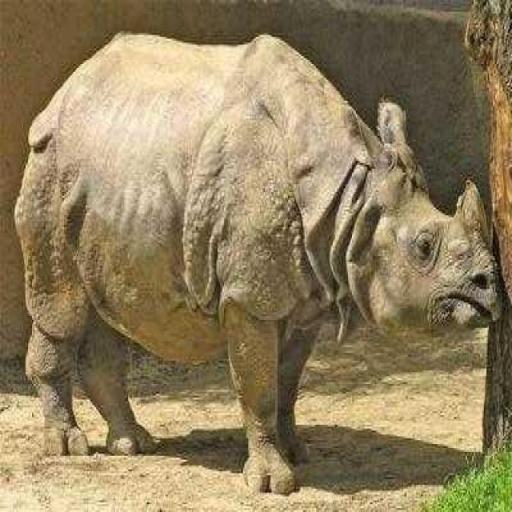Rhino: (13, 28, 499, 494)
